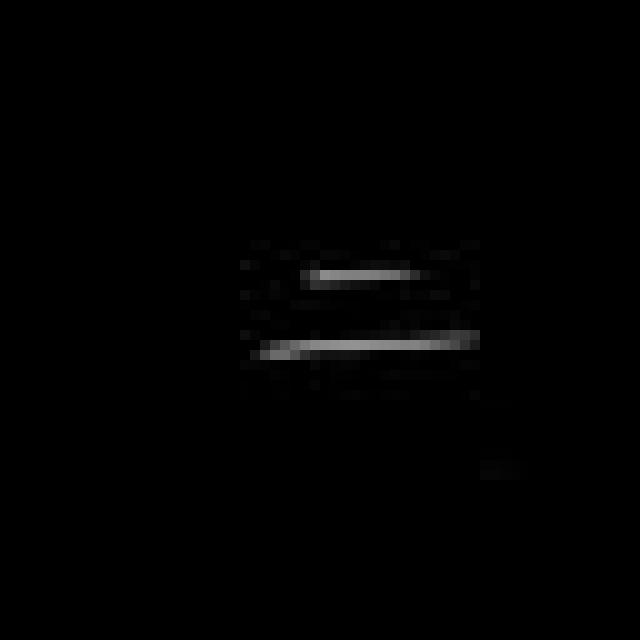2 -two-: (251, 251, 491, 389)
